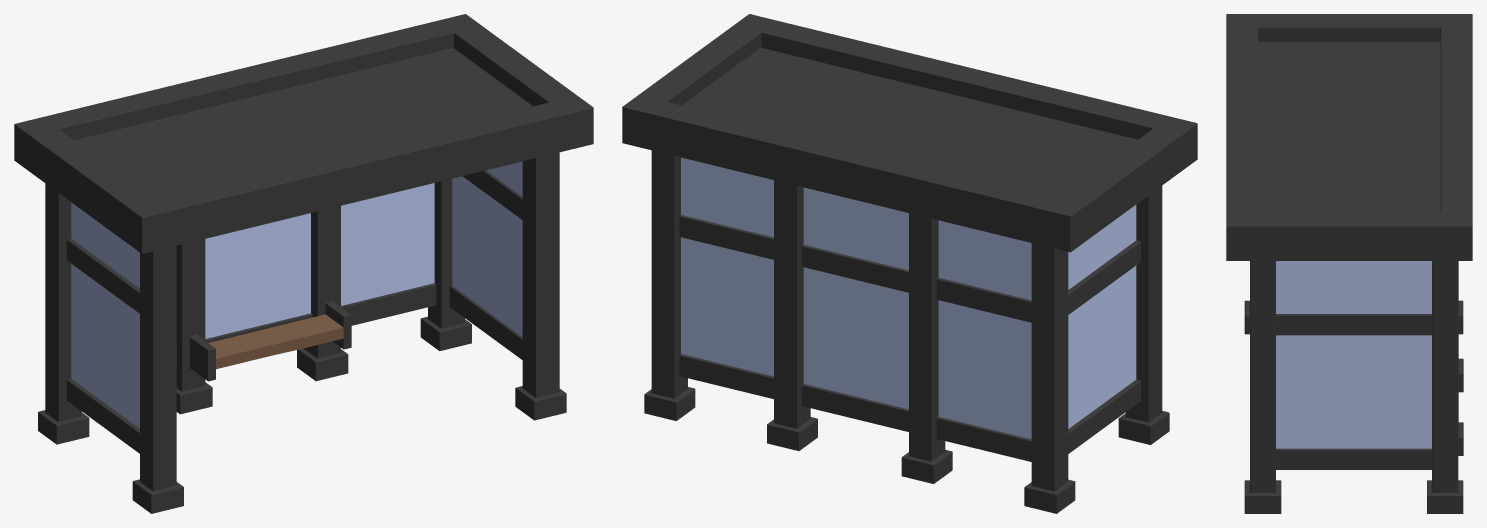
File: busstop.fbx
The picture shows the model from 3 angles, left to right: view 1: azimuth 30°, elevation 25°; view 2: azimuth 150°, elevation 25°; view 3: azimuth 270°, elevation 25°; orthographic projection. The views are drawn at different scales.
Parts seen in each view (by area): view 1: Cube.013; view 2: Cube.013; view 3: Cube.013.
Part boxes in pixels (x1=…): Cube.013: x1=14, y1=14, x2=593, y2=513; Cube.013: x1=622, y1=14, x2=1197, y2=513; Cube.013: x1=1226, y1=14, x2=1472, y2=513.
Bounding box in the file's own units: 677 × 441 × 332.
